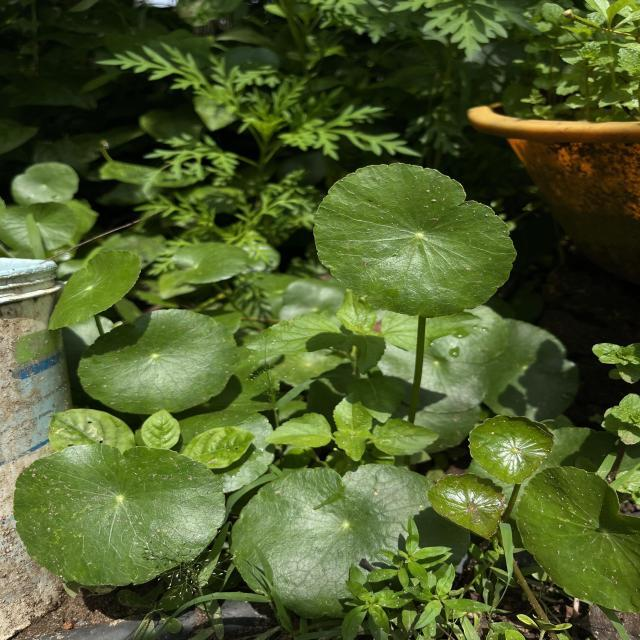Bacopa monnieri: (312, 160, 518, 320), (11, 442, 228, 588), (514, 464, 640, 616), (74, 306, 242, 416), (45, 248, 144, 332), (465, 411, 557, 486), (425, 470, 510, 542)
